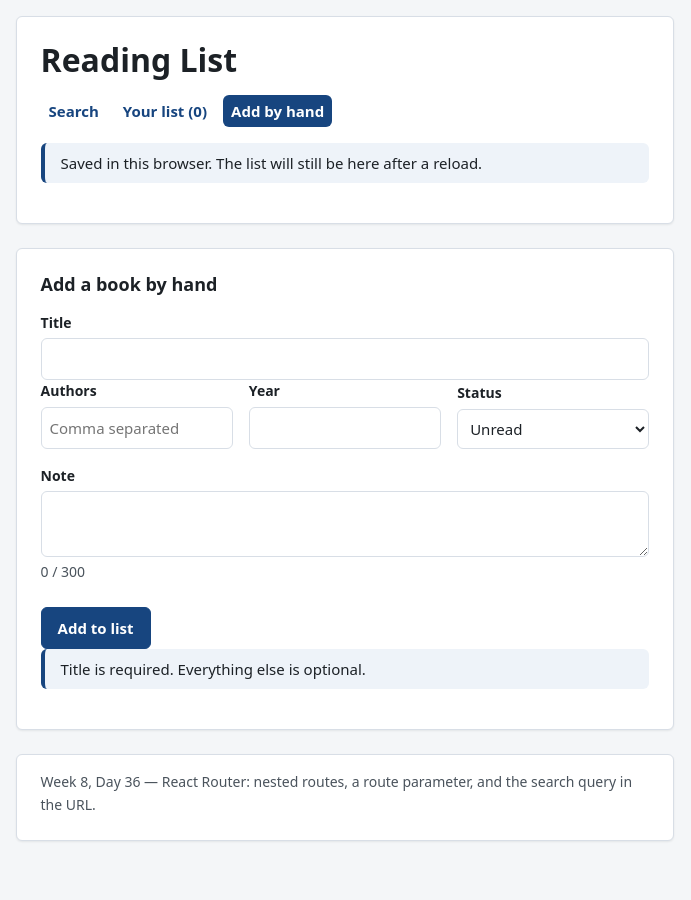
Test: the form's error summary › appears only after a failed submit
Click the button "Add to list": (96, 628) [40,608,151,650]
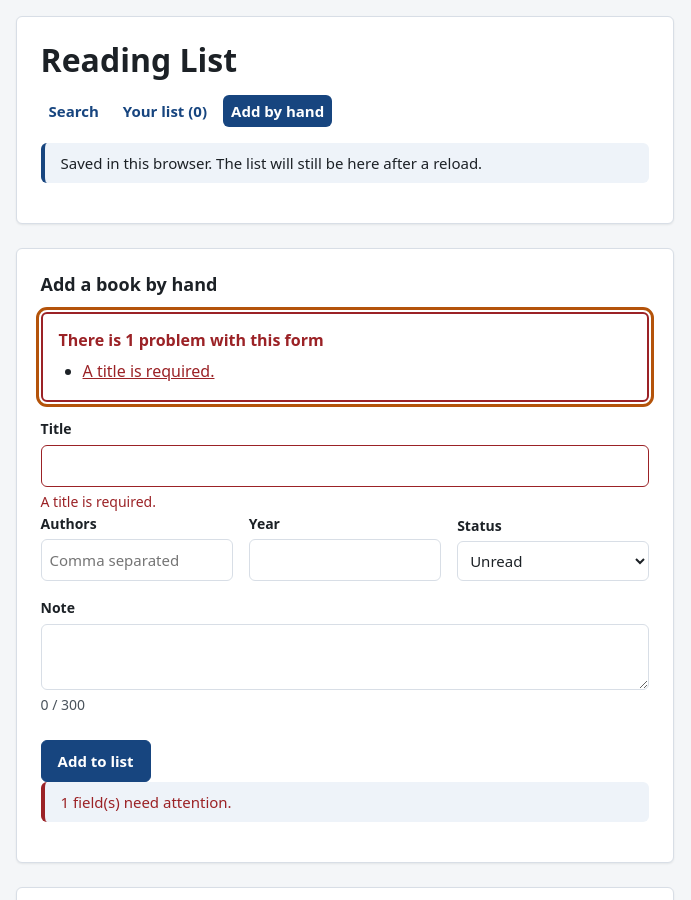
Expected: the message "There is 1 problem with this form A title is required." is shown, [40,312,649,402]
